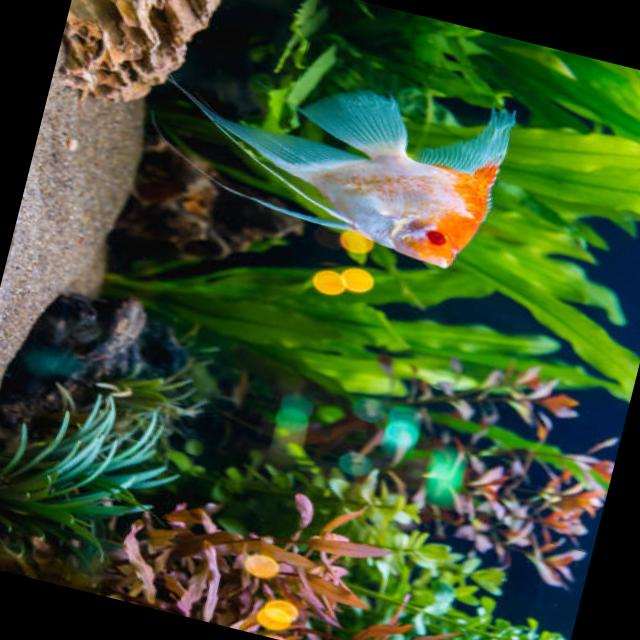AngelFish: (118, 17, 522, 281)
